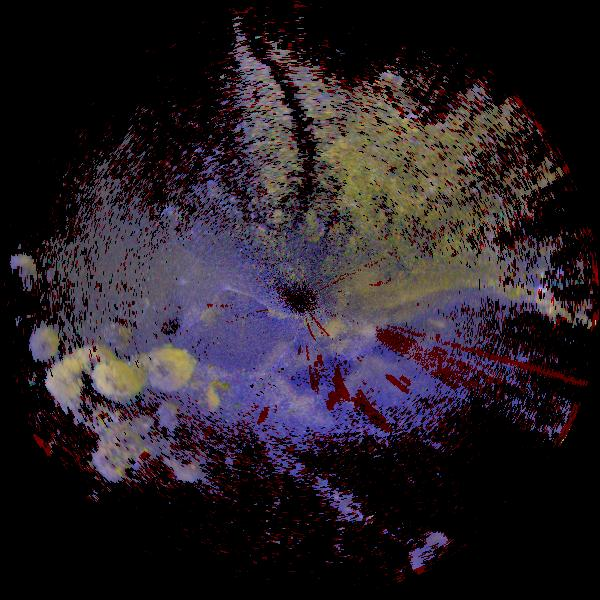roost: (136, 415, 217, 496), (129, 331, 204, 406), (81, 343, 153, 415), (167, 366, 230, 429), (36, 355, 93, 412), (83, 430, 140, 487), (102, 414, 153, 465), (20, 321, 68, 369), (1, 244, 46, 289)
